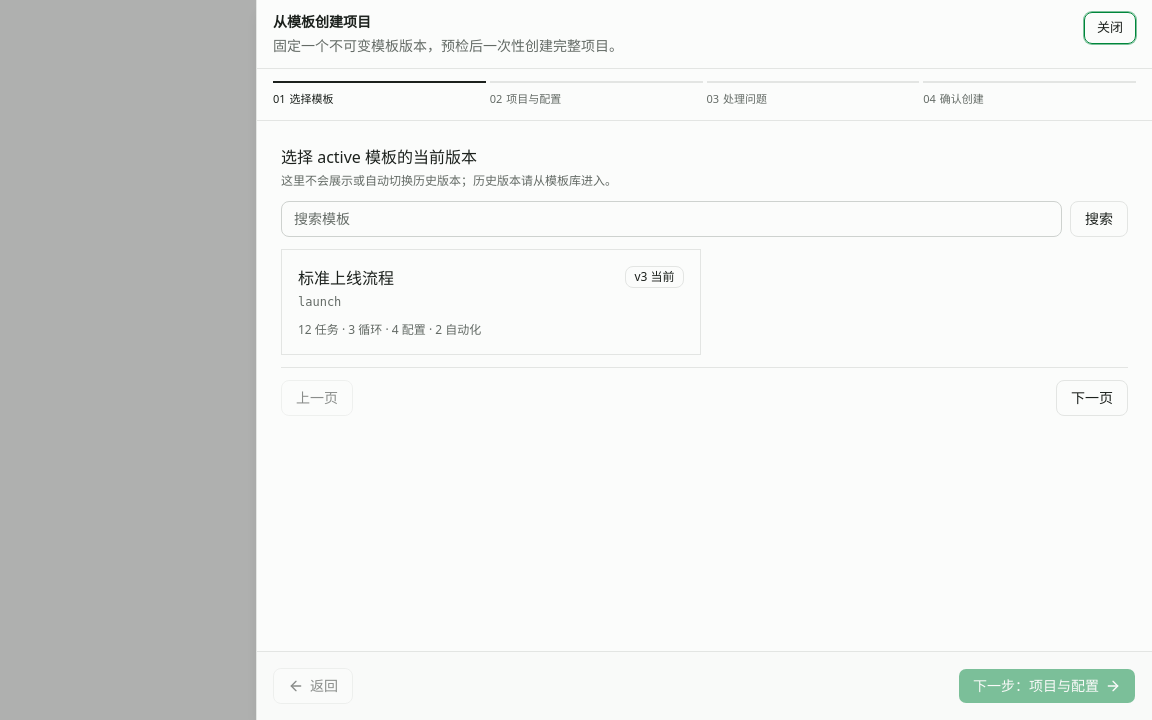
ProjectTemplateInstantiateWizard › searches and pages active templates from the project entry
Type "上线" into the field labelled "搜索模板".
click(672, 218); type("上线")  # box [281,200,1062,236]
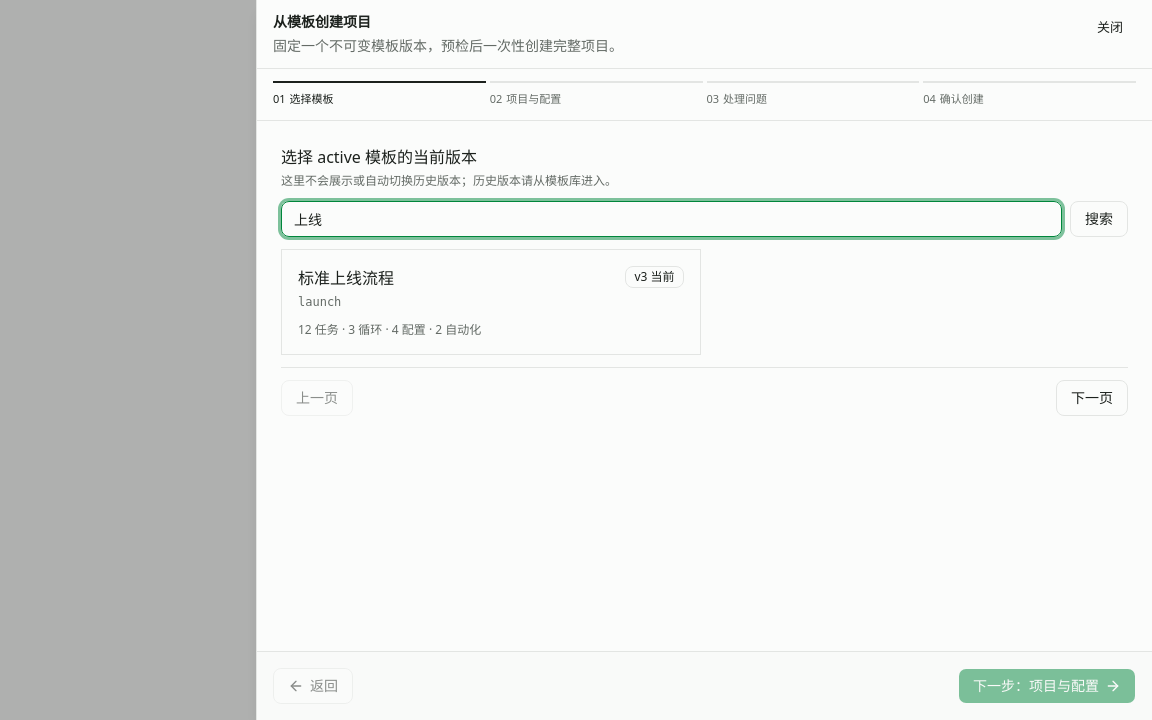
Click the button "搜索".
click(1099, 218)  # box [1070,200,1128,236]
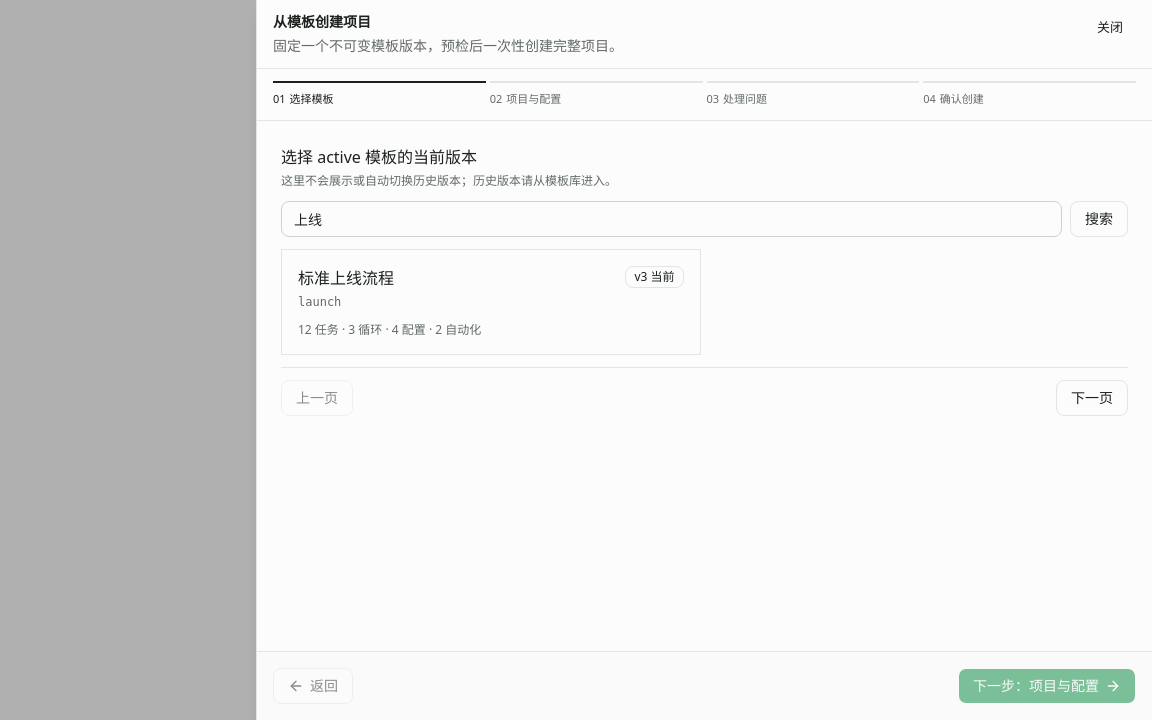
Click the button "下一页".
click(1092, 398)  # box [1056,380,1128,416]
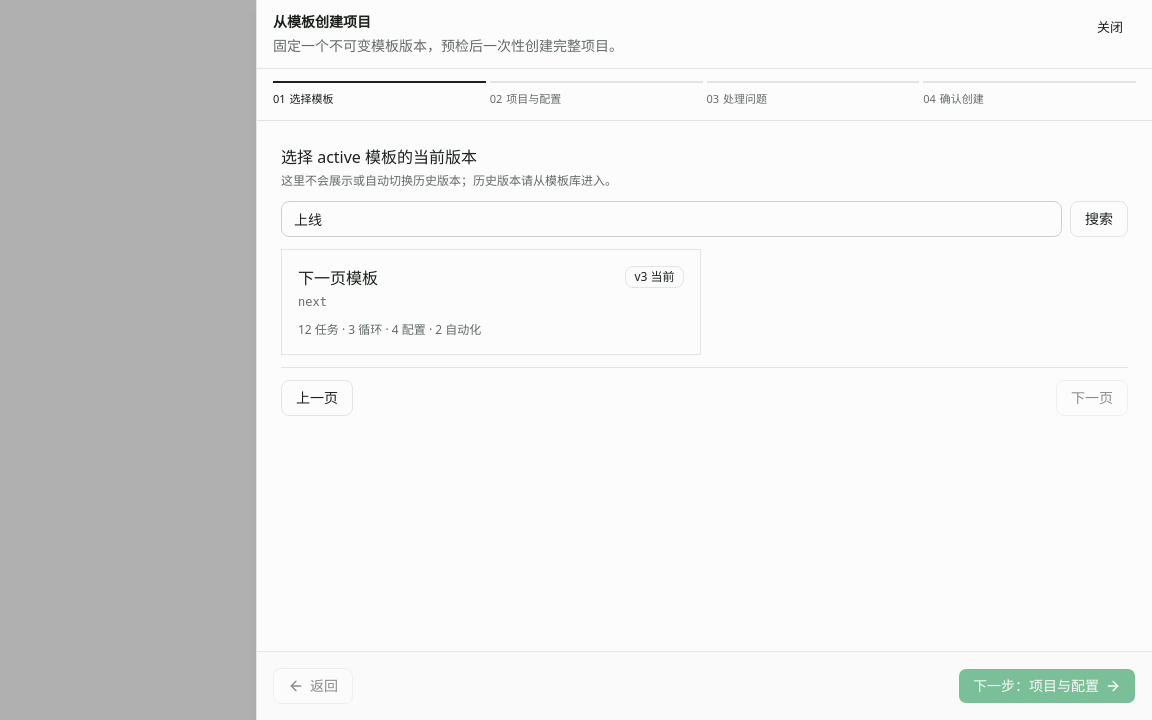
Expected: the text "下一页模板" is shown, [298,266,378,290]
